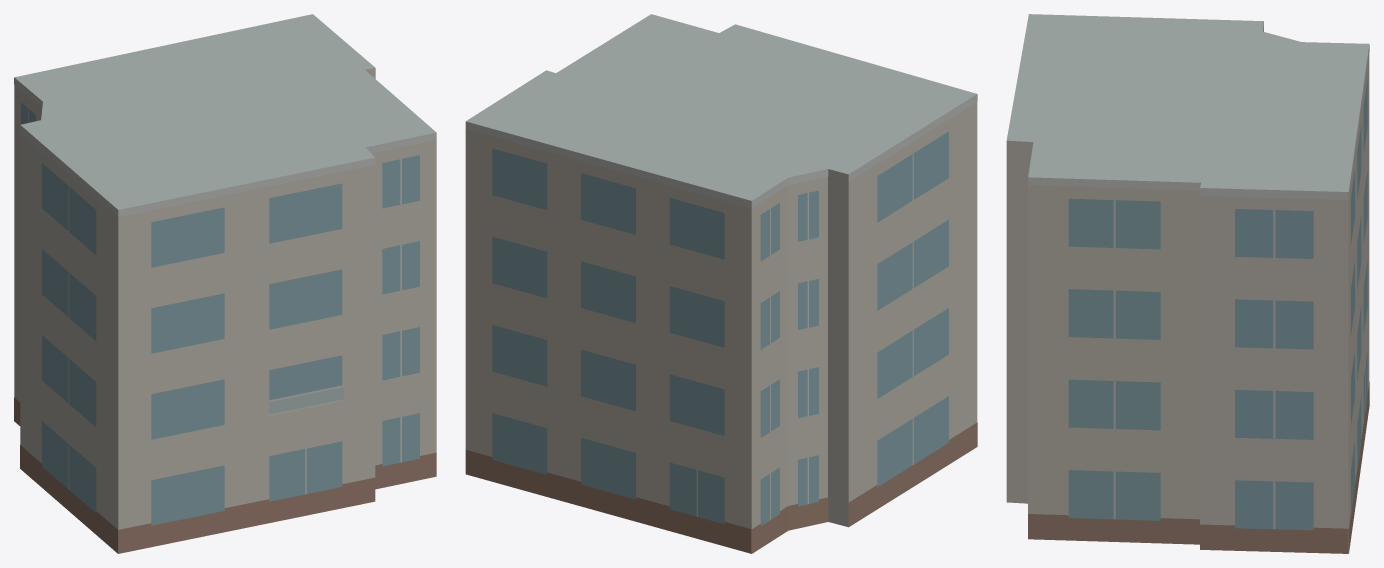
The model's file is survey-upis-32472555.glb.
3 renders of one model, left to right at view 1: azimuth 30°, elevation 25°; view 2: azimuth 150°, elevation 25°; view 3: azimuth 270°, elevation 25°, orthographic. The views are drawn at different scales.
Visible parts, largest first — view 1: survey-upis-32472555.tmp; view 2: survey-upis-32472555.tmp; view 3: survey-upis-32472555.tmp.
Boxes of the visible parts, bbox=[...] form: survey-upis-32472555.tmp: bbox=[14, 14, 436, 553]; survey-upis-32472555.tmp: bbox=[465, 14, 977, 553]; survey-upis-32472555.tmp: bbox=[1006, 14, 1369, 553].
Bounding box in the file's own units: 11.93 × 11.3 × 10.28.
